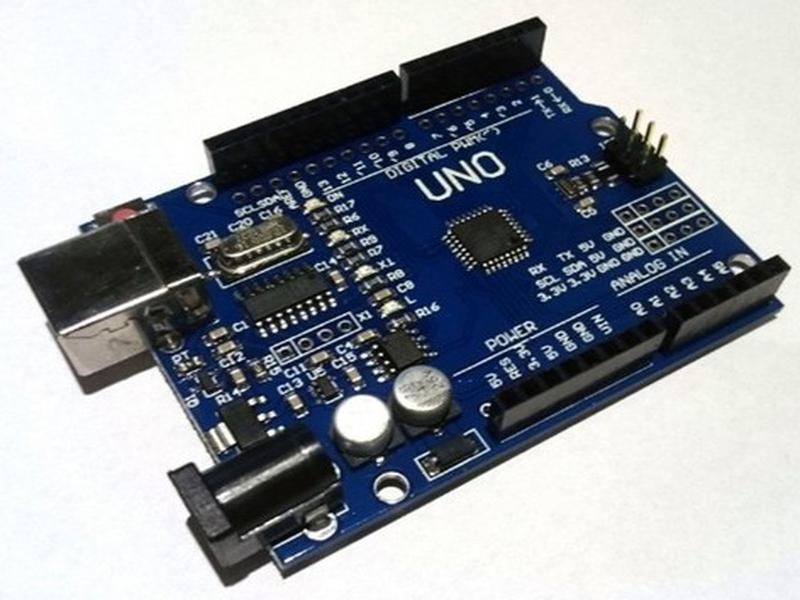Arduino UNO SMD: (17, 12, 788, 578)
